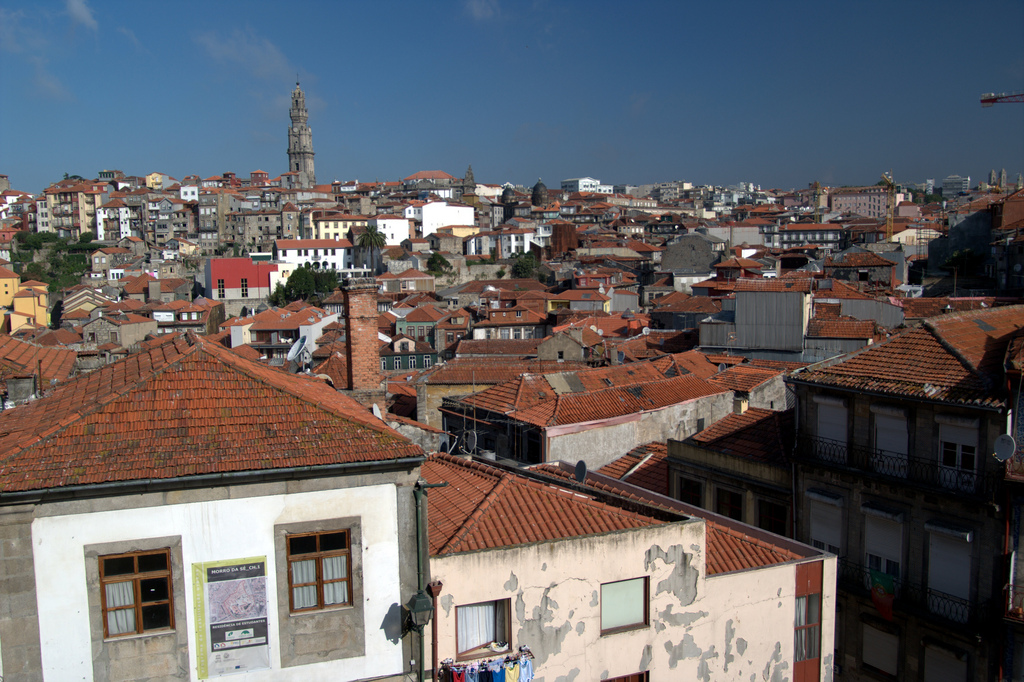clerigos: (287, 82, 319, 186)
